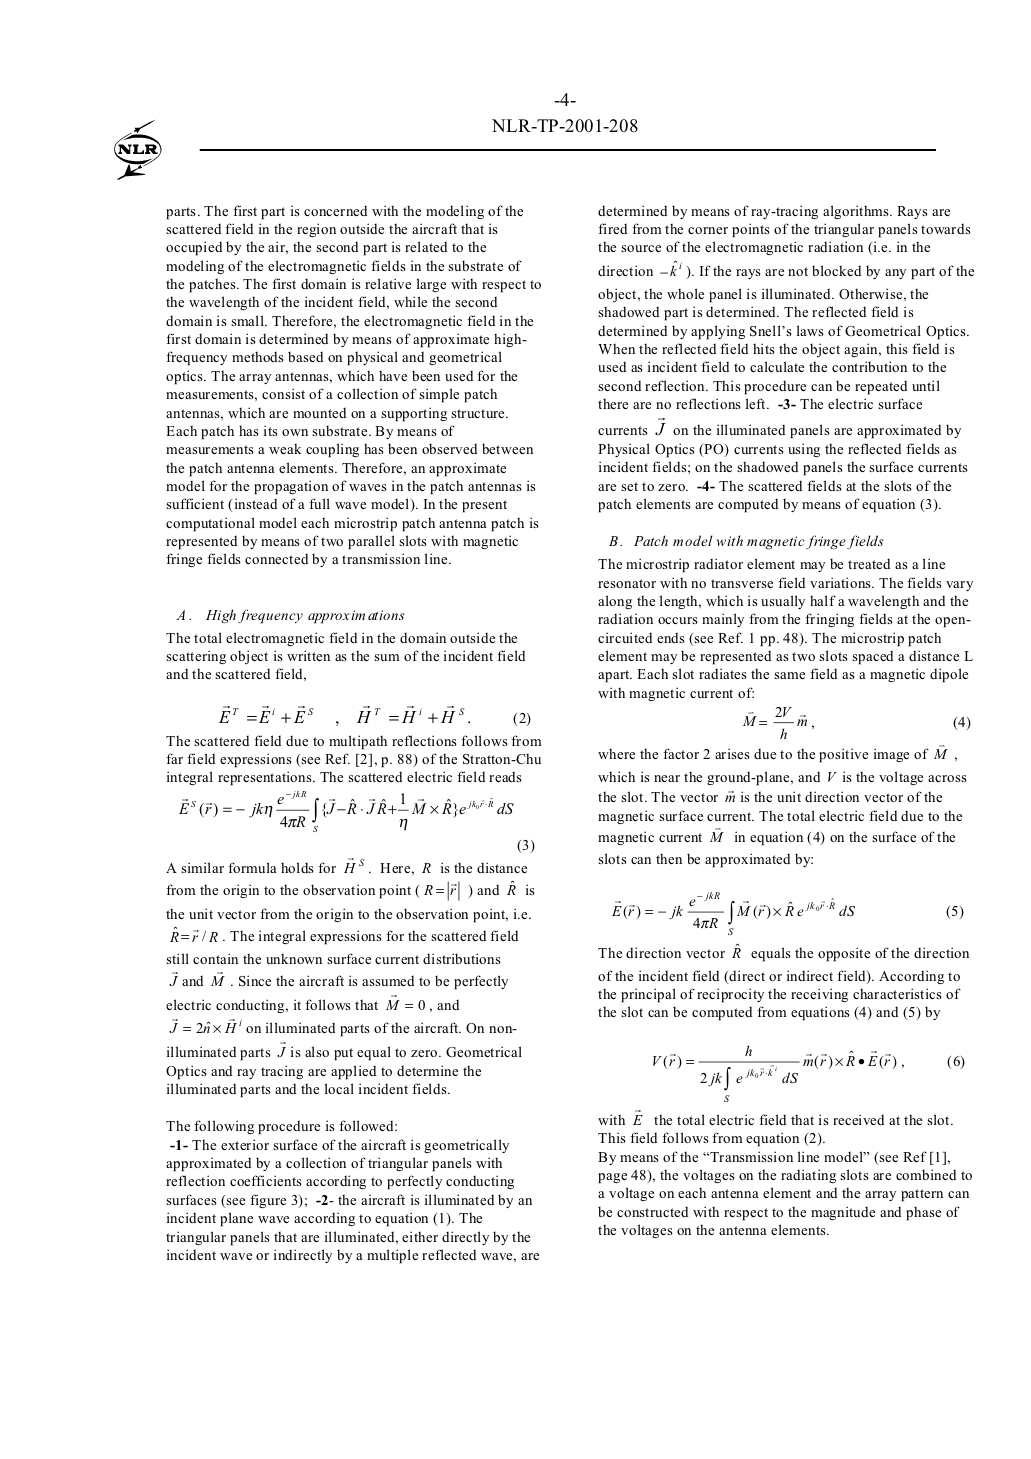figure: (114, 119, 161, 178)
formula: (653, 1045, 964, 1102), (611, 891, 963, 936), (179, 789, 513, 832), (742, 705, 970, 740), (218, 705, 530, 726)
